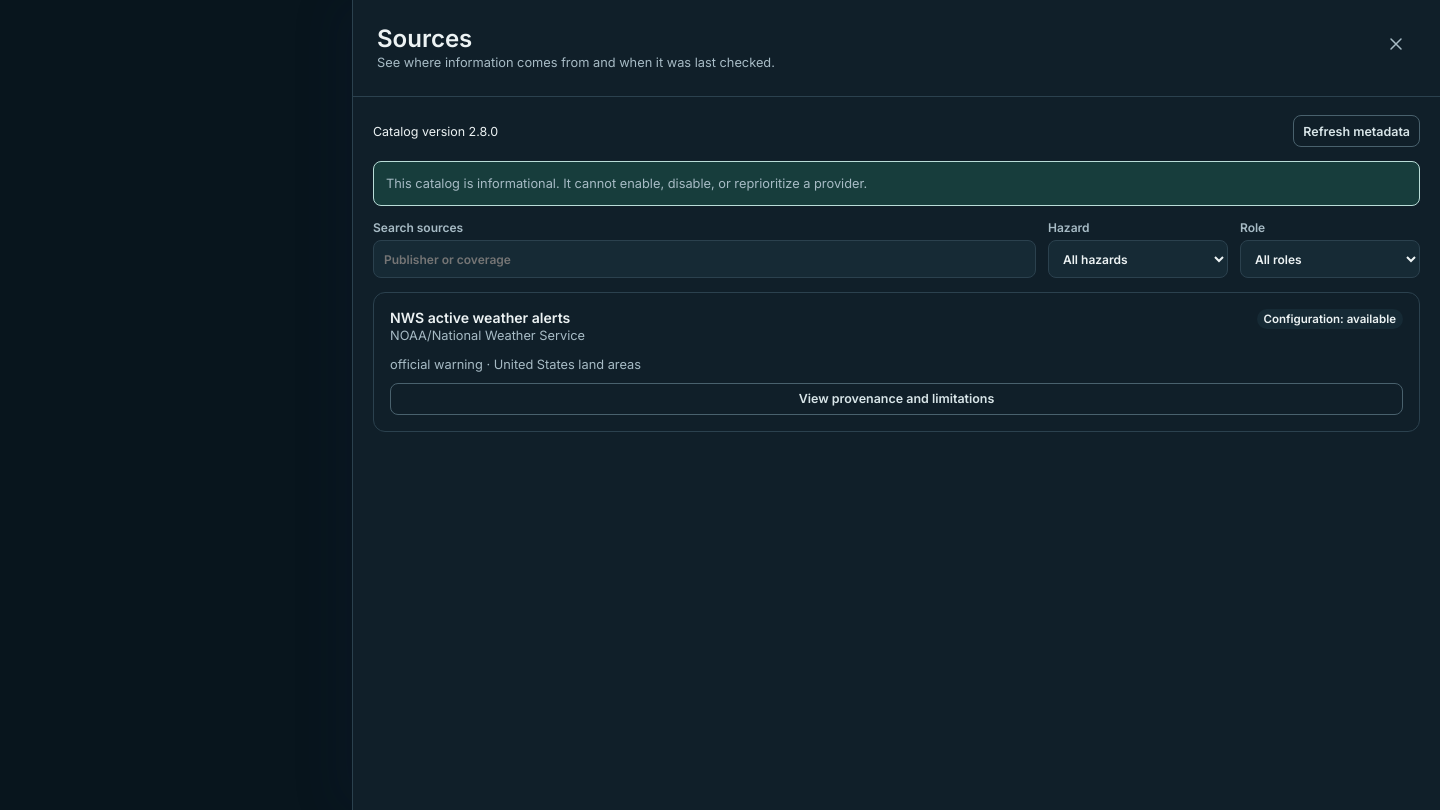
SourceCatalog › is read-only and explains metadata separately from runtime state
Expected: the heading "NWS active weather alerts" is shown, [390,309,585,326]
Expected: the text "NOAA/National Weather Service" is shown, [390,326,585,346]
Click the button "View provenance and limitations". click: coordinates (896, 399)
box: [390,383,1403,415]
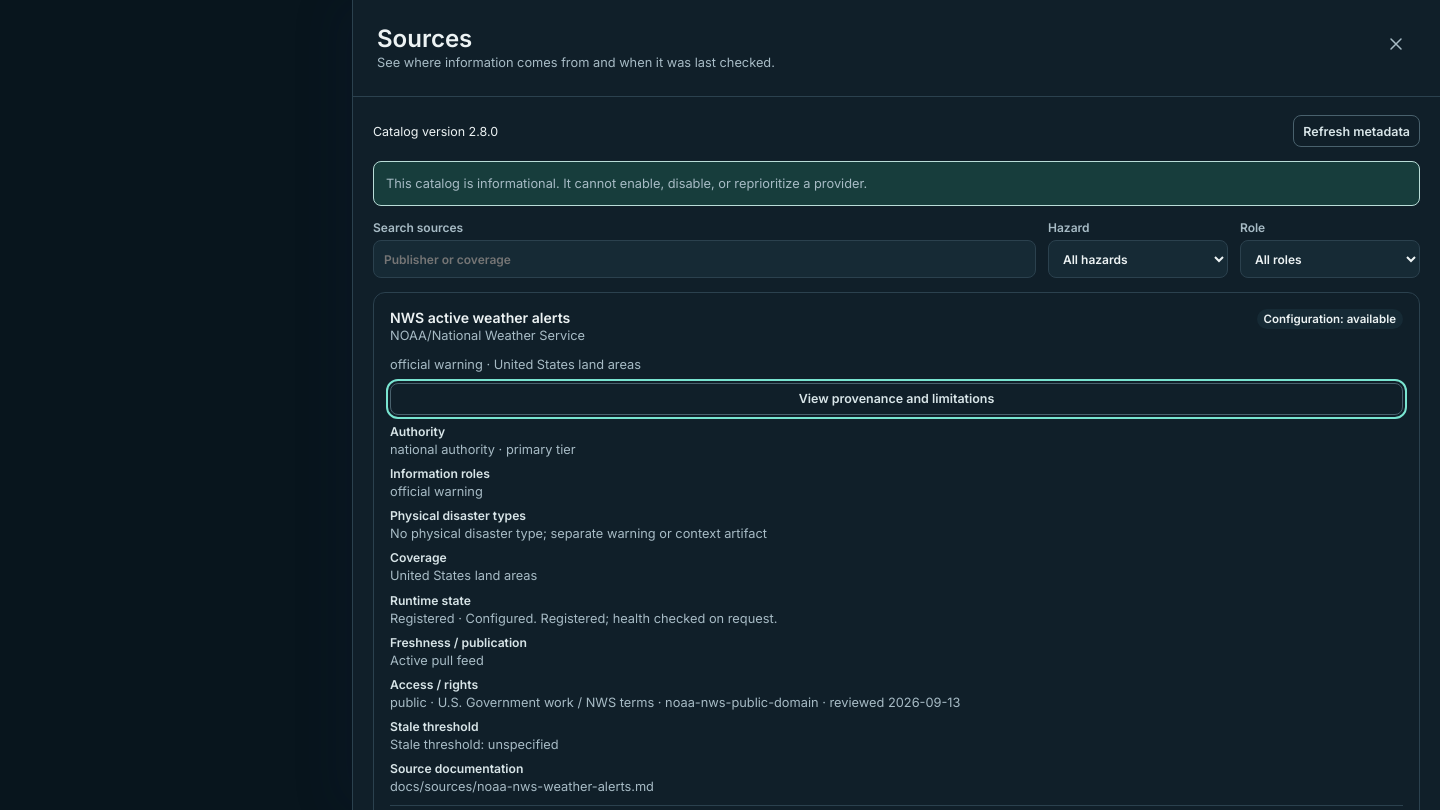
Now the text "No physical disaster type" is shown, box [390,526,767,541]
Now the text "Stale threshold: unspecified" is shown, box [390,737,559,752]
Now the text "Registered; health checked on request" is shown, box [541,610,777,626]
Click the button "Refresh metadata". click: coordinates (1357, 131)
box: [1293,115,1420,147]
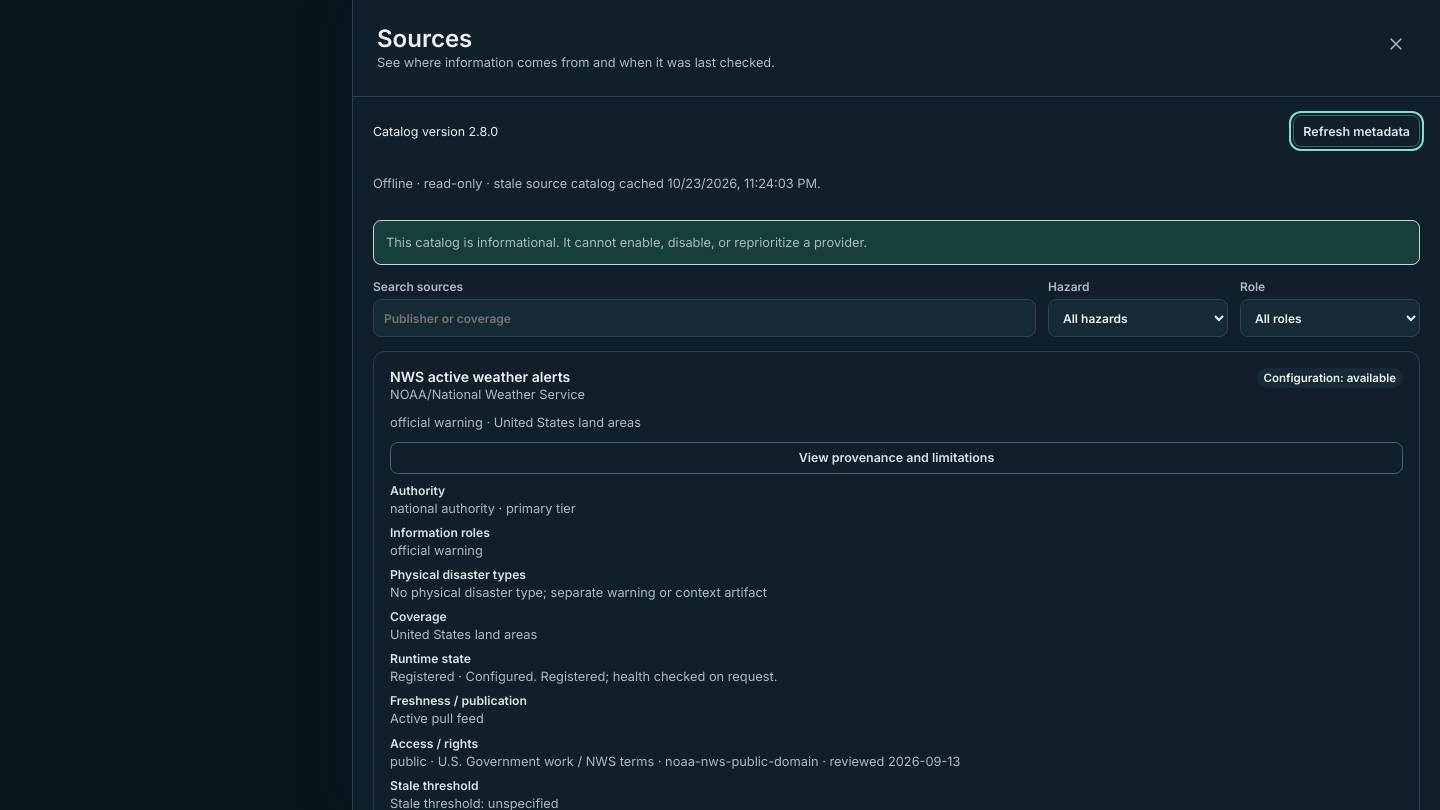
Expected: the heading "NWS active weather alerts" is shown, [390,368,585,385]
Now the text "Offline · read-only · stale source catalog cached 10/23/2026, 11:24:03 PM." is shown, box [373,176,821,191]
